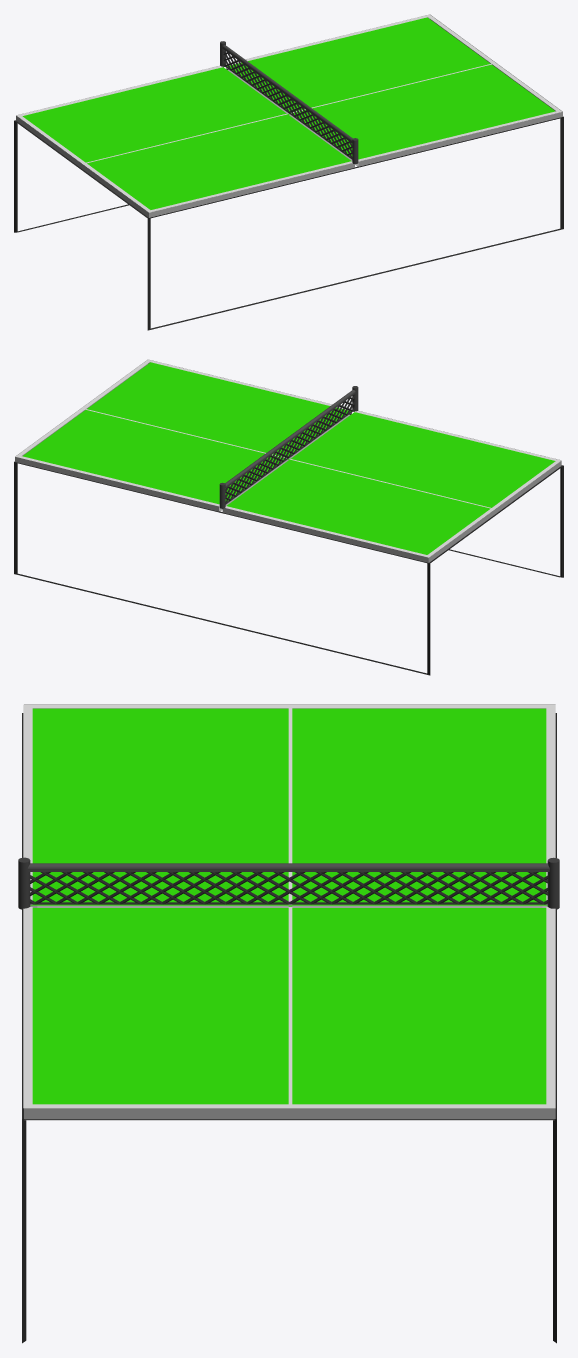
File: ping_pong_vik.fbx
3 renders of one model, top to bottom at view 1: azimuth 30°, elevation 25°; view 2: azimuth 150°, elevation 25°; view 3: azimuth 270°, elevation 25°, orthographic. The views are drawn at different scales.
Visible parts, largest first — view 1: piano.001, riche.002, protezione_metallica.001, Cube, Plane.003, Cylinder.004; view 2: piano.001, riche.002, protezione_metallica.001, Cube, Plane.003, Cylinder.004; view 3: piano.001, riche.002, Plane.003, protezione_metallica.001, Cylinder.004, Cube, Point.002.
Boxes of the visible parts, <box> form: piano.001: <box>22,17,555,209</box>; riche.002: <box>16,14,562,212</box>; protezione_metallica.001: <box>16,14,562,217</box>; Cube: <box>14,69,563,330</box>; Plane.003: <box>223,51,352,159</box>; Cylinder.004: <box>222,45,352,143</box>; piano.001: <box>22,362,555,554</box>; riche.002: <box>15,359,561,557</box>; protezione_metallica.001: <box>15,359,561,562</box>; Cube: <box>14,414,563,675</box>; Plane.003: <box>225,396,354,504</box>; Cylinder.004: <box>225,390,355,488</box>; piano.001: <box>30,708,547,1104</box>; riche.002: <box>23,704,555,1108</box>; Plane.003: <box>29,872,548,904</box>; protezione_metallica.001: <box>24,704,555,1120</box>; Cylinder.004: <box>27,863,549,871</box>; Cube: <box>22,713,556,1343</box>; Point.002: <box>18,857,559,909</box>.
Size of the model in its own units: 481 by 155 by 271.
